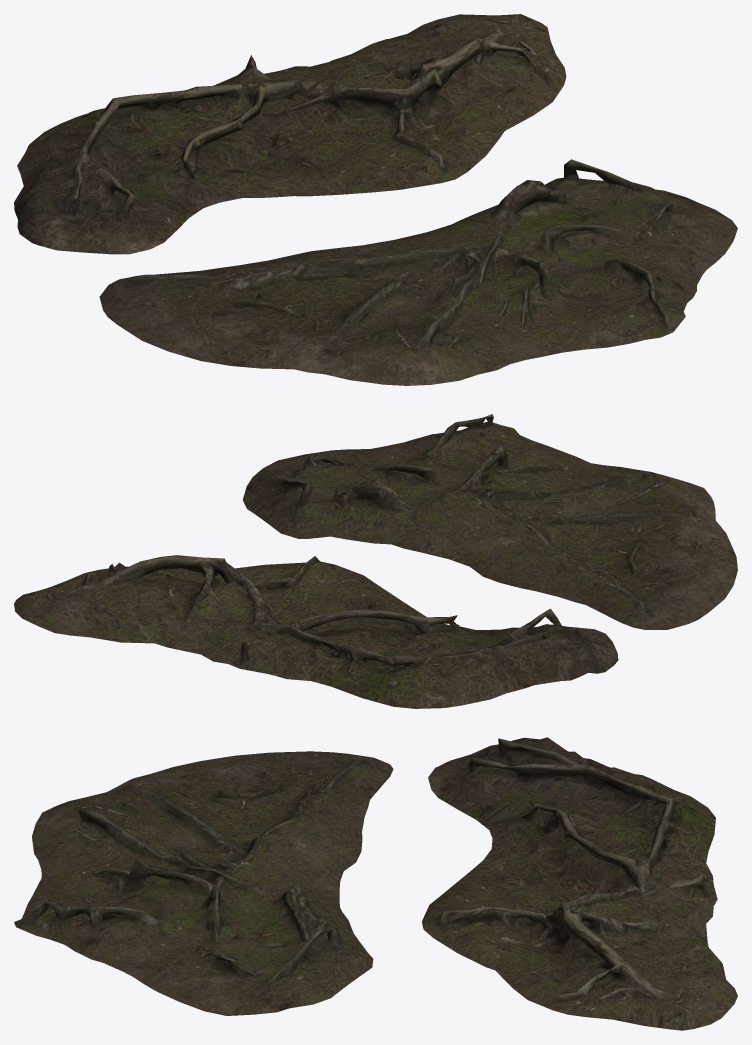
Rendered from pine_roots.glb.
3 renders of one model, top to bottom at view 1: azimuth 30°, elevation 25°; view 2: azimuth 150°, elevation 25°; view 3: azimuth 270°, elevation 25°, orthographic. The views are drawn at different scales.
Parts seen in each view (by area): view 1: pine_roots; view 2: pine_roots; view 3: pine_roots.
Boxes of the visible parts, box(x1,y1,x2,y2) form: pine_roots: box(14, 14, 737, 385); pine_roots: box(14, 414, 737, 708); pine_roots: box(14, 737, 737, 1030).
Size of the model in its own units: 1.77 by 0.1525 by 1.89.
2 materials, 2 textured.
